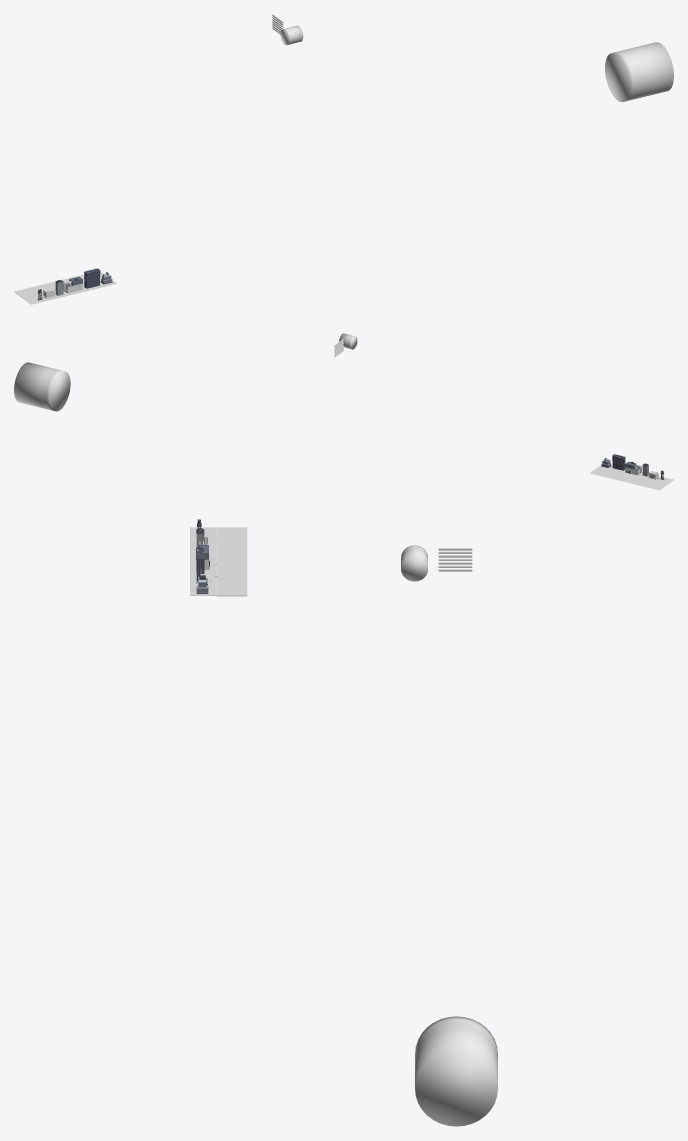
The model's file is Ambientazione1_v004.fbx.
The picture shows the model from 3 angles, top to bottom: view 1: azimuth 30°, elevation 25°; view 2: azimuth 150°, elevation 25°; view 3: azimuth 270°, elevation 25°; orthographic projection. The views are drawn at different scales.
Parts seen in each view (by area): view 1: Cylinder, Cube.007, Plane; view 2: Cylinder, Plane, Cube.007; view 3: Cylinder, Plane.
Boxes of the visible parts, left/top/right/bottom form: Cylinder: left=605, top=42, right=673, bottom=102; Cube.007: left=37, top=268, right=112, bottom=300; Plane: left=14, top=271, right=116, bottom=304; Cylinder: left=14, top=362, right=70, bottom=411; Plane: left=589, top=464, right=673, bottom=490; Cube.007: left=601, top=454, right=664, bottom=479; Cylinder: left=415, top=1016, right=497, bottom=1126; Plane: left=190, top=527, right=247, bottom=596.
Size of the model in its own units: 584 by 130 by 133.
